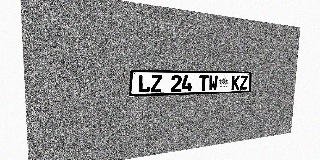plate: (129, 70, 252, 97)
